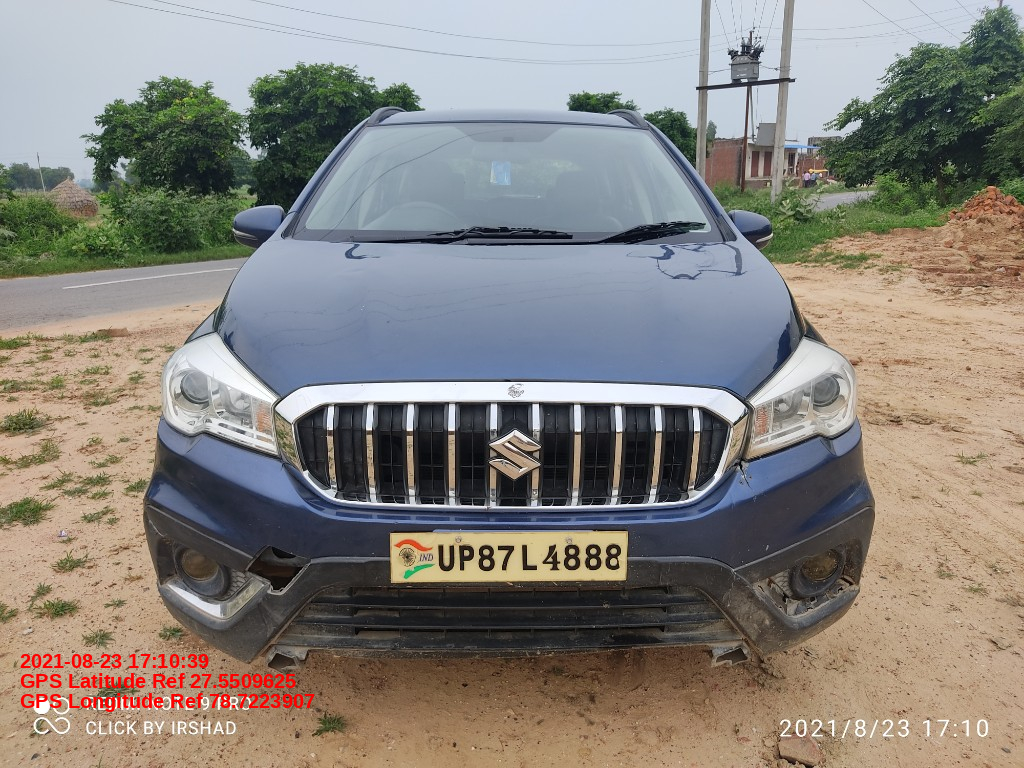Broken: (726, 541, 865, 625), (239, 539, 307, 600), (707, 632, 755, 674), (260, 642, 305, 680)
Cracked: (723, 455, 770, 502), (136, 506, 182, 542)
